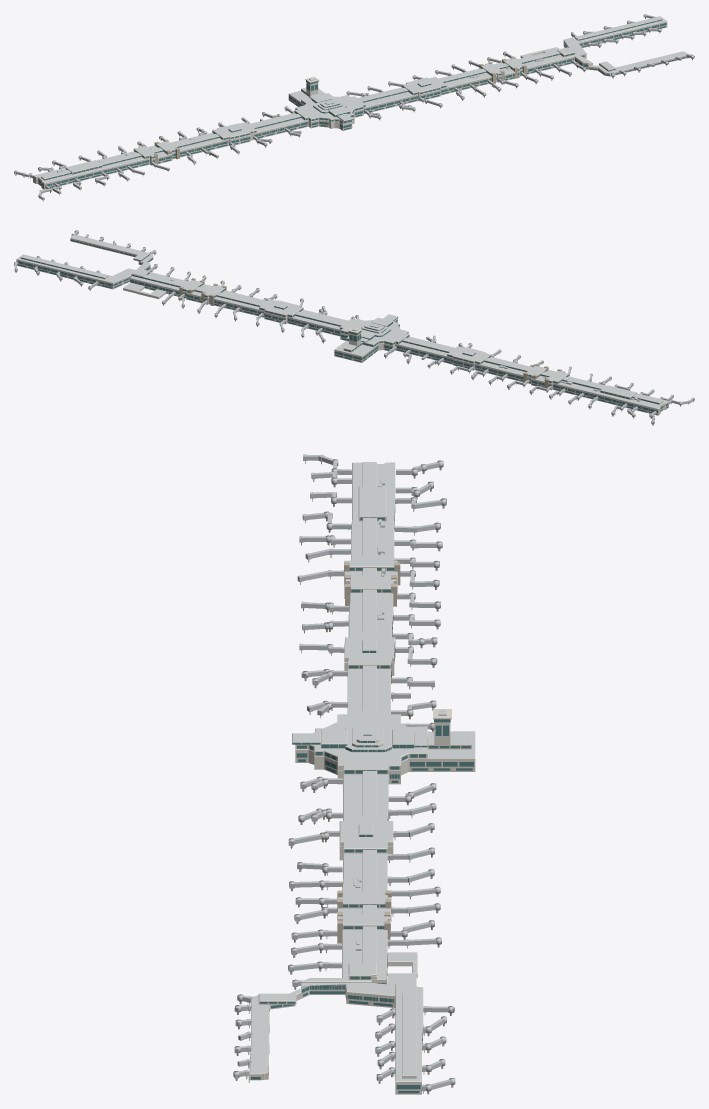
Rendered from den-airport-concourse-b.detail.glb.
The picture shows the model from 3 angles, top to bottom: view 1: azimuth 30°, elevation 25°; view 2: azimuth 150°, elevation 25°; view 3: azimuth 270°, elevation 25°; orthographic projection. The views are drawn at different scales.
Parts seen in each view (by area): view 1: Denver International Airport, Concourse B; view 2: Denver International Airport, Concourse B; view 3: Denver International Airport, Concourse B.
Part boxes in pixels (<box>): Denver International Airport, Concourse B: <box>14,14,694,201</box>; Denver International Airport, Concourse B: <box>14,230,694,425</box>; Denver International Airport, Concourse B: <box>233,454,475,1094</box>.
Size of the model in its own units: 1347 by 47.5 by 218.
